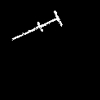double_crochet: (12, 11, 61, 39)
